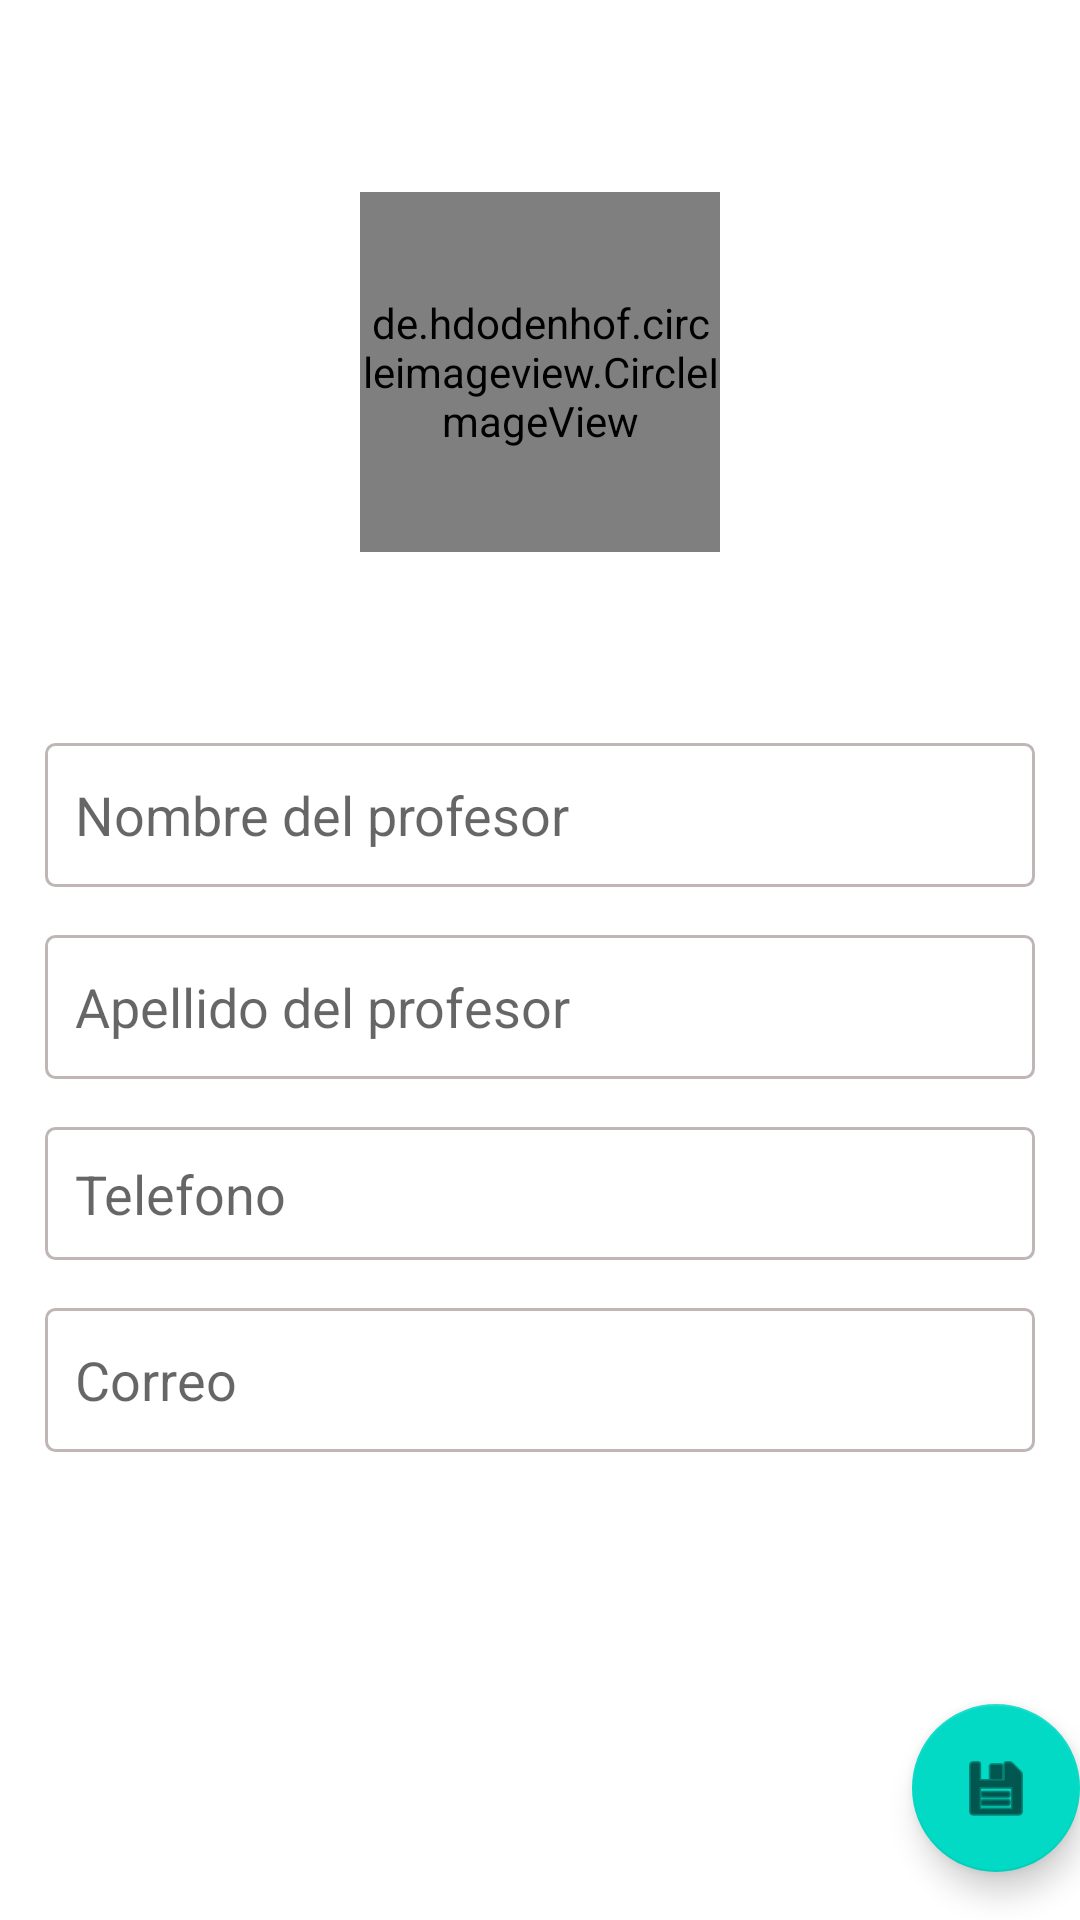

Named icons in this screenshot (1080px x 1920px) and their bounding boxes, (x1, y1, x2, y2):
save: (912, 1704, 1080, 1872)
